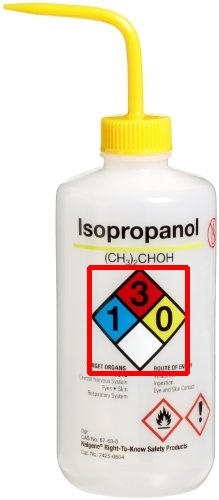nfpa: (89, 267, 187, 373)
